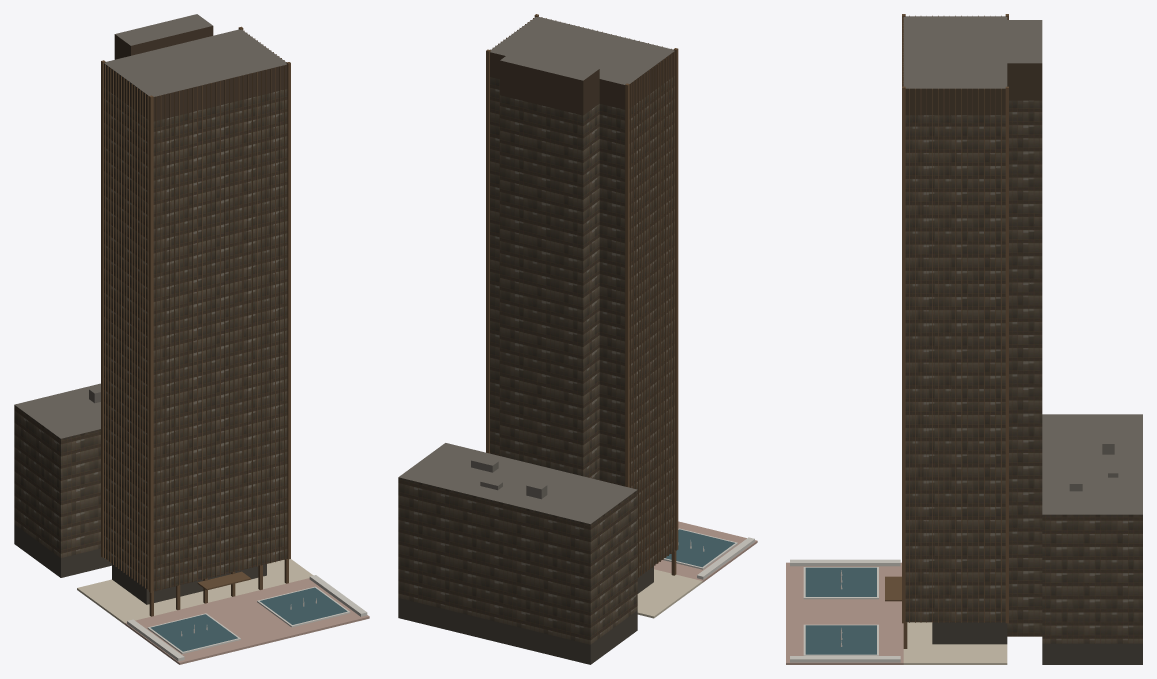
Rendered from seagram_building.glb.
3 views of the same model, side by side, from view 1: azimuth 30°, elevation 25°; view 2: azimuth 150°, elevation 25°; view 3: azimuth 270°, elevation 25° (orthographic). The views are drawn at different scales.
Visible parts, largest first — view 1: seagram_building; view 2: seagram_building; view 3: seagram_building.
Part boxes in pixels (bbox=[...]): seagram_building: bbox=[14, 14, 369, 664]; seagram_building: bbox=[398, 14, 757, 664]; seagram_building: bbox=[786, 14, 1142, 664].
Size of the model in its own units: 60.01 by 160 by 90.31.
Materials: 2 (2 with a texture image).
